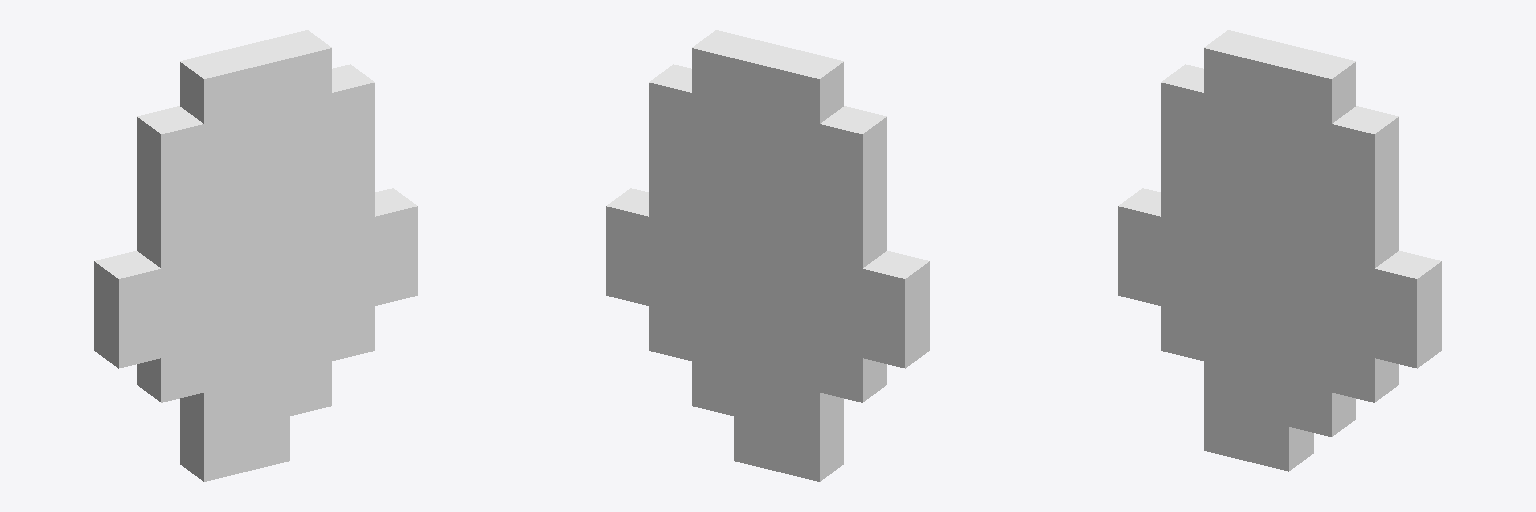
File: Player_walk.obj
The picture shows the model from 3 angles: view 1: azimuth 30°, elevation 25°; view 2: azimuth 150°, elevation 25°; view 3: azimuth 330°, elevation 25°; orthographic projection.
Visible parts, largest first — view 1: Player_walk; view 2: Player_walk; view 3: Player_walk.
Part boxes in pixels (bbox=[...]): Player_walk: bbox=[94, 30, 417, 481]; Player_walk: bbox=[606, 30, 929, 481]; Player_walk: bbox=[1118, 30, 1441, 471].
Size of the model in its own units: 7 by 9 by 1.